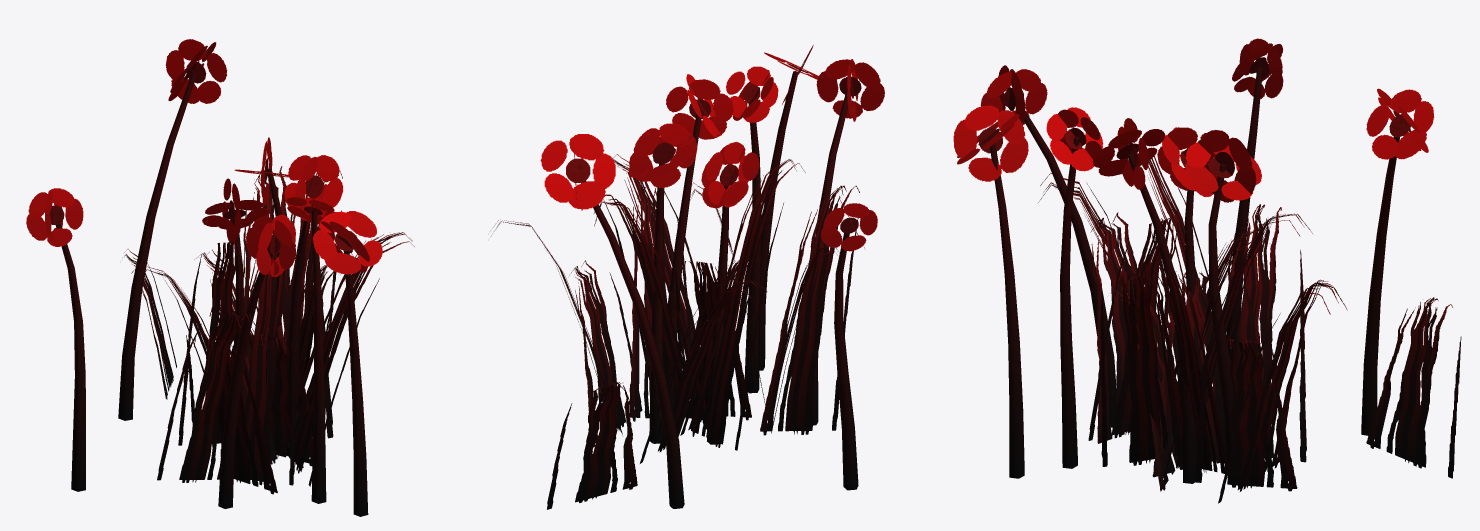
The model's file is plant_forest_wildflower_a.glb.
The picture shows the model from 3 angles, left to right: view 1: azimuth 30°, elevation 25°; view 2: azimuth 150°, elevation 25°; view 3: azimuth 270°, elevation 25°; orthographic projection. The views are drawn at different scales.
Parts seen in each view (by area): view 1: plant_forest_wildflower_a; view 2: plant_forest_wildflower_a; view 3: plant_forest_wildflower_a.
Part boxes in pixels (x1,y1,x2,y2): plant_forest_wildflower_a: (26, 39, 414, 516); plant_forest_wildflower_a: (491, 45, 884, 509); plant_forest_wildflower_a: (953, 38, 1461, 503).
Size of the model in its own units: 0.3318 by 0.3264 by 0.3692.
1 material, 1 textured.
